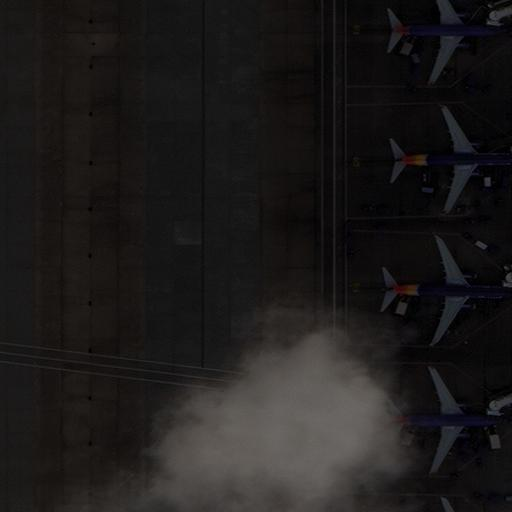Medium Civil Transport: (378, 238, 511, 346), (386, 367, 511, 473), (391, 106, 511, 212), (387, 0, 510, 84)
